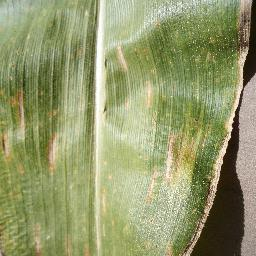Gray_Leaf_Spot: (127, 122, 203, 208), (0, 124, 47, 256), (126, 208, 212, 256), (226, 15, 256, 125), (0, 84, 26, 126), (213, 126, 236, 166), (203, 166, 224, 208), (65, 230, 91, 255), (46, 132, 64, 165), (116, 35, 127, 89), (32, 220, 43, 255), (148, 164, 158, 195), (100, 187, 109, 215), (146, 78, 154, 105), (160, 241, 174, 255), (49, 106, 60, 120)
